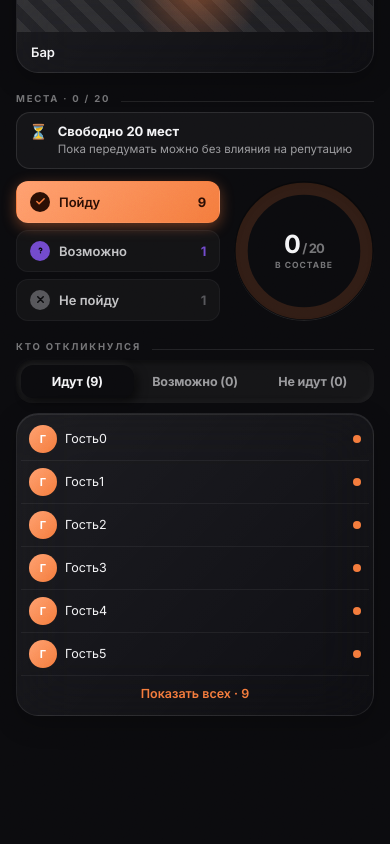
EventPage — блок «Набор» (event-vote-block.md) › длинный список сворачивается: 6 строк + «Показать всех»
(page scrolled)
Expected: the text "Гость5" is shown, [65,646,106,661]
Expected: the text "Гость6" is not shown
Click the button "Показать всех · 9" at (195, 693), box [21,675,369,711]
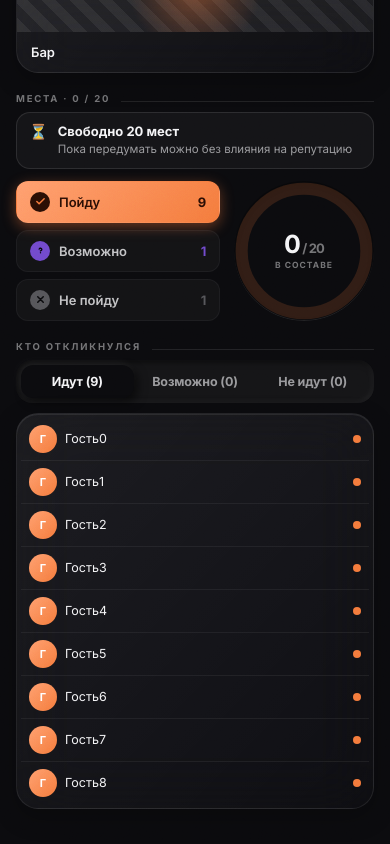
Result: the text "Гость8" is shown at [65,775,107,790]
